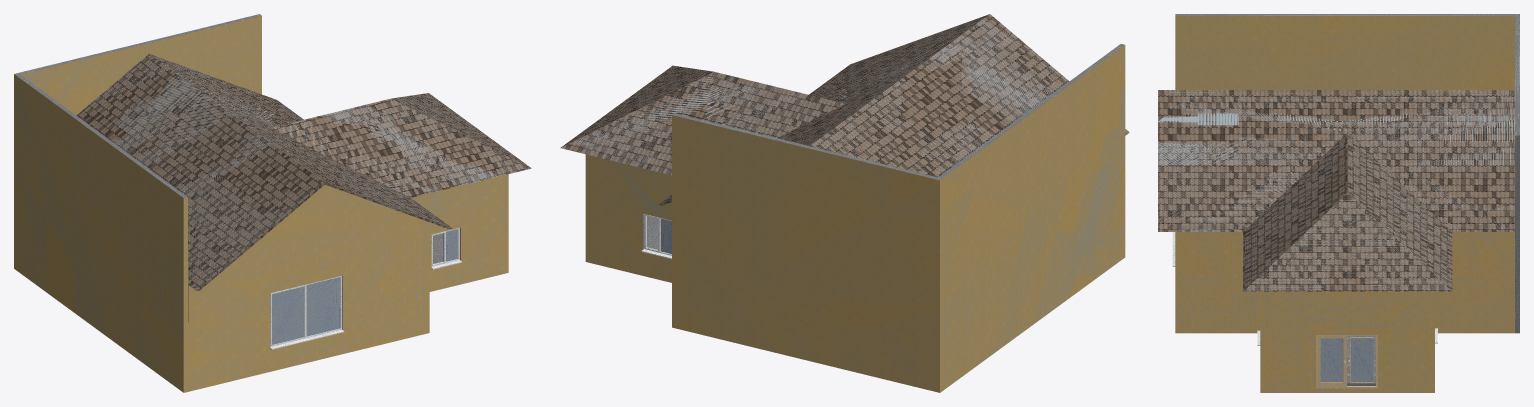
The picture shows the model from 3 angles, left to right: view 1: azimuth 30°, elevation 25°; view 2: azimuth 150°, elevation 25°; view 3: azimuth 270°, elevation 25°; orthographic projection. The views are drawn at different scales.
Parts seen in each view (by area): view 1: SketchUp (×6); view 2: SketchUp (×3); view 3: SketchUp (×8).
Part boxes in pixels (x1,y1,x2,y2): SketchUp (×6): [14, 14, 531, 392]; SketchUp (×3): [560, 14, 1129, 392]; SketchUp (×8): [1158, 14, 1519, 392].
Bounding box in the file's own units: 621 × 503 × 303.
15 materials, 3 textured.
